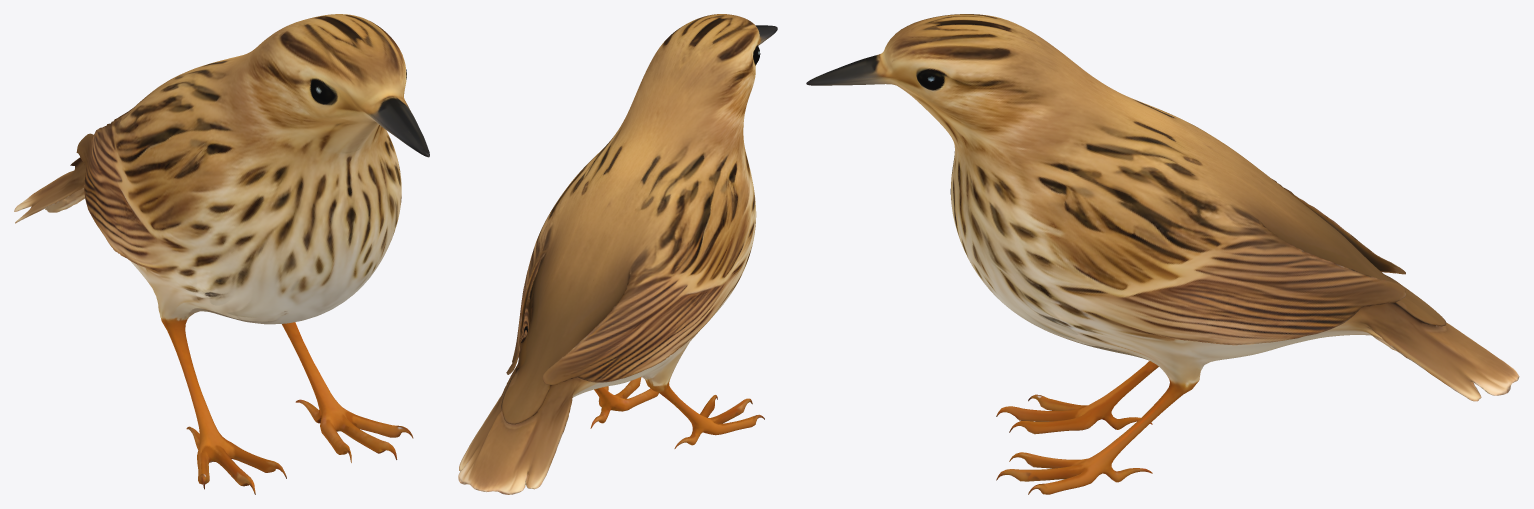
Rendered from southGeorgiaPipit.glb.
3 renders of one model, left to right at view 1: azimuth 30°, elevation 25°; view 2: azimuth 150°, elevation 25°; view 3: azimuth 270°, elevation 25°, orthographic. The views are drawn at different scales.
Parts seen in each view (by area): view 1: model; view 2: model; view 3: model.
Part boxes in pixels (bbox=[...]): model: bbox=[14, 14, 429, 494]; model: bbox=[458, 14, 777, 494]; model: bbox=[806, 14, 1519, 494].
Size of the model in its own units: 0.59 by 1.27 by 1.89.
1 material, 1 textured.
